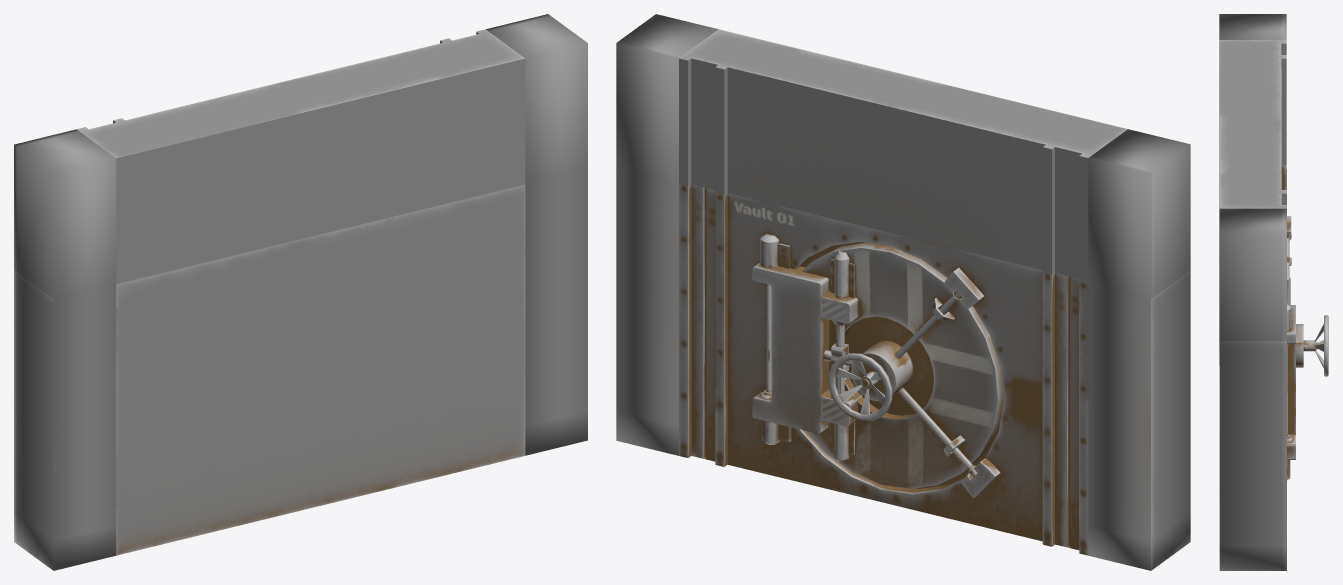
File: vault lock.fbx
3 renders of one model, left to right at view 1: azimuth 30°, elevation 25°; view 2: azimuth 150°, elevation 25°; view 3: azimuth 270°, elevation 25°, orthographic. The views are drawn at different scales.
Visible parts, largest first — view 1: defaultMaterial.002; view 2: defaultMaterial.002; view 3: defaultMaterial.002.
Boxes of the visible parts, x1,y1,x2,y2 form: defaultMaterial.002: (14, 14, 587, 570); defaultMaterial.002: (616, 14, 1190, 570); defaultMaterial.002: (1219, 14, 1328, 570).
Size of the model in its own units: 852 by 605 by 178.
Materials: 1 (1 with a texture image).
